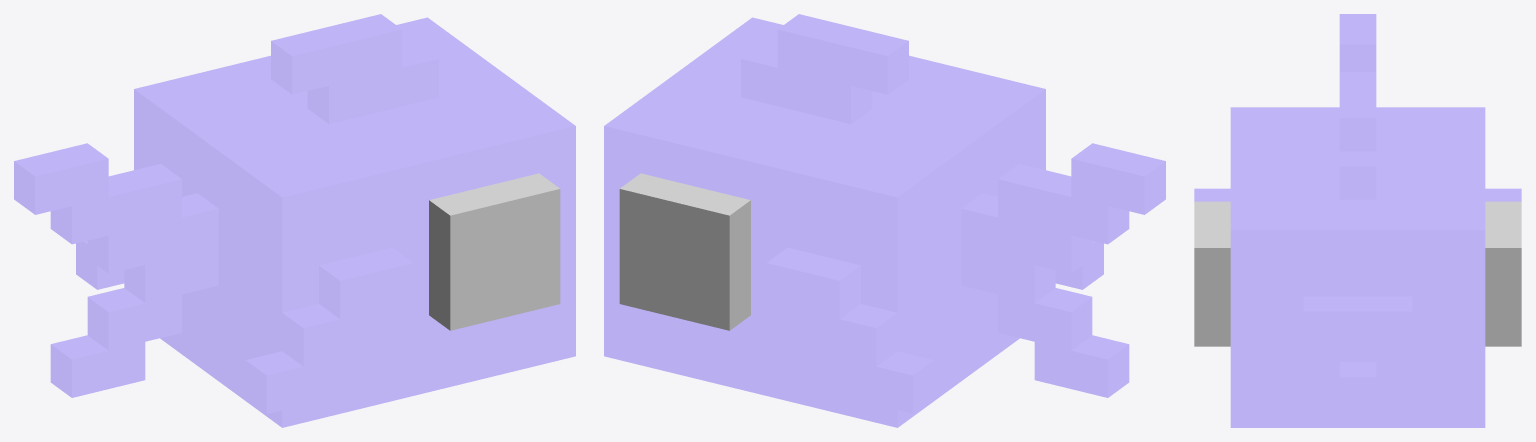
File: beta-fish.glb
The picture shows the model from 3 angles, left to right: view 1: azimuth 30°, elevation 25°; view 2: azimuth 150°, elevation 25°; view 3: azimuth 270°, elevation 25°; orthographic projection. The views are drawn at different scales.
Parts seen in each view (by area): view 1: Beta Fish; view 2: Beta Fish; view 3: Beta Fish.
Part boxes in pixels (box(x1,y1,x2,y2)): Beta Fish: box(14, 14, 575, 427); Beta Fish: box(604, 14, 1165, 427); Beta Fish: box(1194, 14, 1521, 427).
Bounding box in the file's own units: 26.07 × 14.9 × 16.76.
